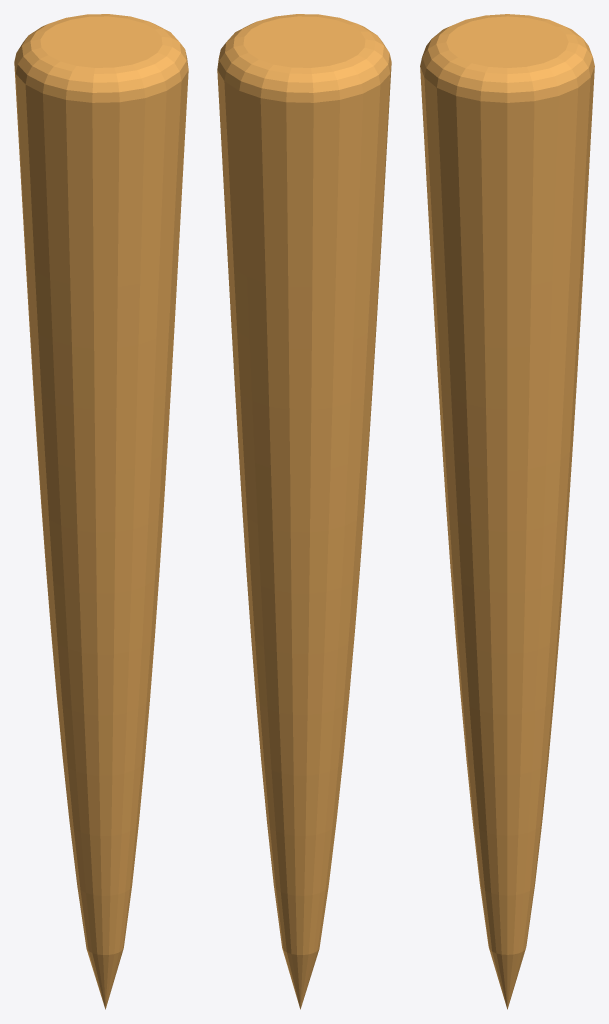
Rendered from carrot_v07.glb.
3 views of the same model, side by side, from view 1: azimuth 30°, elevation 25°; view 2: azimuth 150°, elevation 25°; view 3: azimuth 270°, elevation 25° (orthographic).
Visible parts, largest first — view 1: root; view 2: root; view 3: root.
Boxes of the visible parts, <box> form: root: <box>14,14,188,1009</box>; root: <box>217,14,391,1009</box>; root: <box>420,14,594,1009</box>.
Size of the model in its own units: 0.0273 by 0.1662 by 0.0273.
